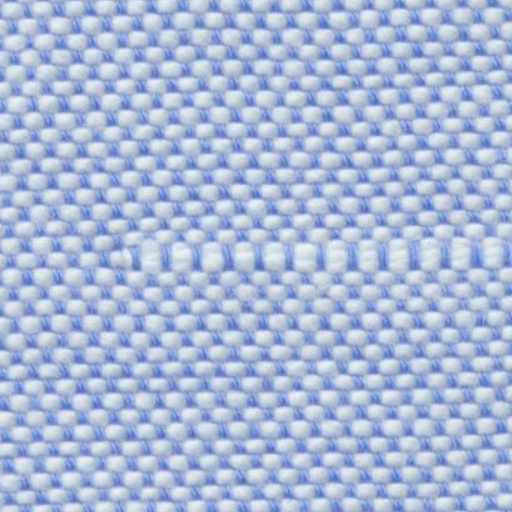DaiSha: (98, 228, 500, 286)
